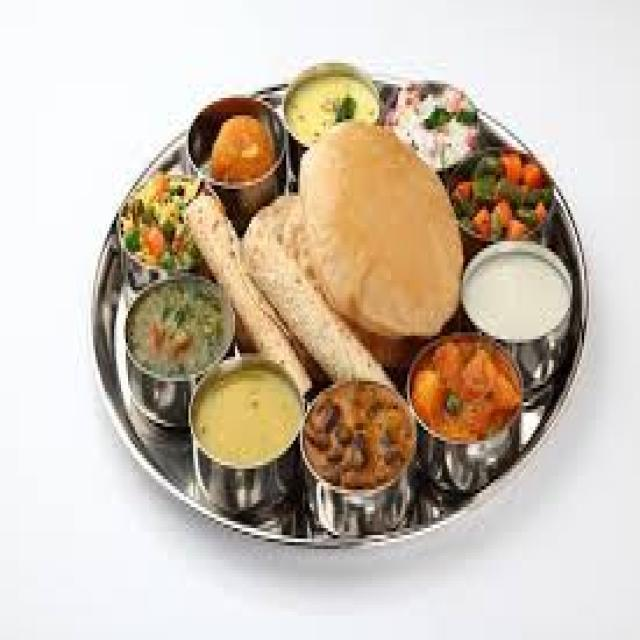dal: (191, 355, 306, 486), (114, 278, 227, 391), (276, 61, 381, 150)
papad: (299, 118, 462, 348)
sambar-rasam: (454, 238, 586, 353), (203, 99, 284, 191)
sweet: (201, 101, 285, 191)
veg-fry: (403, 323, 529, 472), (298, 360, 417, 510)
